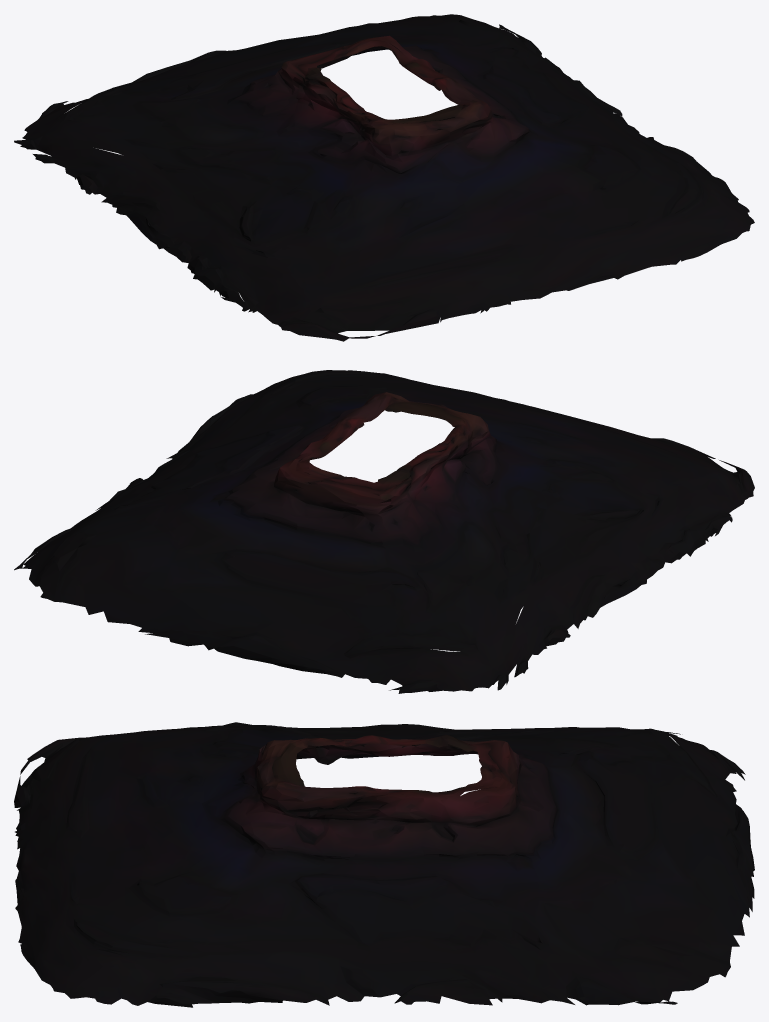
3 views of the same model, one above another, from view 1: azimuth 30°, elevation 25°; view 2: azimuth 150°, elevation 25°; view 3: azimuth 270°, elevation 25° (orthographic). The views are drawn at different scales.
Parts seen in each view (by area): view 1: cliffrock_generator59.109; view 2: cliffrock_generator59.109; view 3: cliffrock_generator59.109.
Part boxes in pixels (left/top/right/bottom): cliffrock_generator59.109: left=14, top=14, right=754, bottom=341; cliffrock_generator59.109: left=14, top=370, right=754, bottom=693; cliffrock_generator59.109: left=14, top=722, right=754, bottom=1007.
Size of the model in its own units: 26211 by 4945 by 29779.
